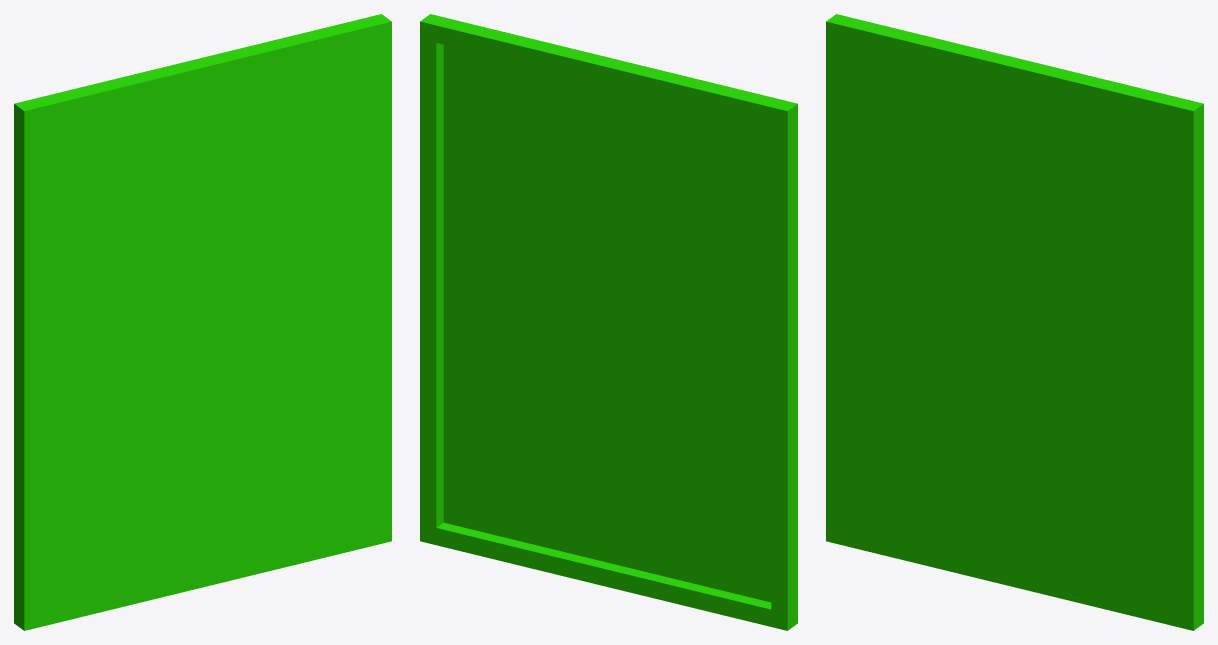
File: Mirror.fbx
3 renders of one model, left to right at view 1: azimuth 30°, elevation 25°; view 2: azimuth 150°, elevation 25°; view 3: azimuth 330°, elevation 25°, orthographic.
Parts seen in each view (by area): view 1: Mirror; view 2: Mirror; view 3: Mirror.
Boxes of the visible parts, x1,y1,x2,y2 form: Mirror: [14, 14, 391, 630]; Mirror: [420, 14, 797, 630]; Mirror: [826, 14, 1203, 630].
Size of the model in its own units: 60.63 by 81.92 by 2.95.
